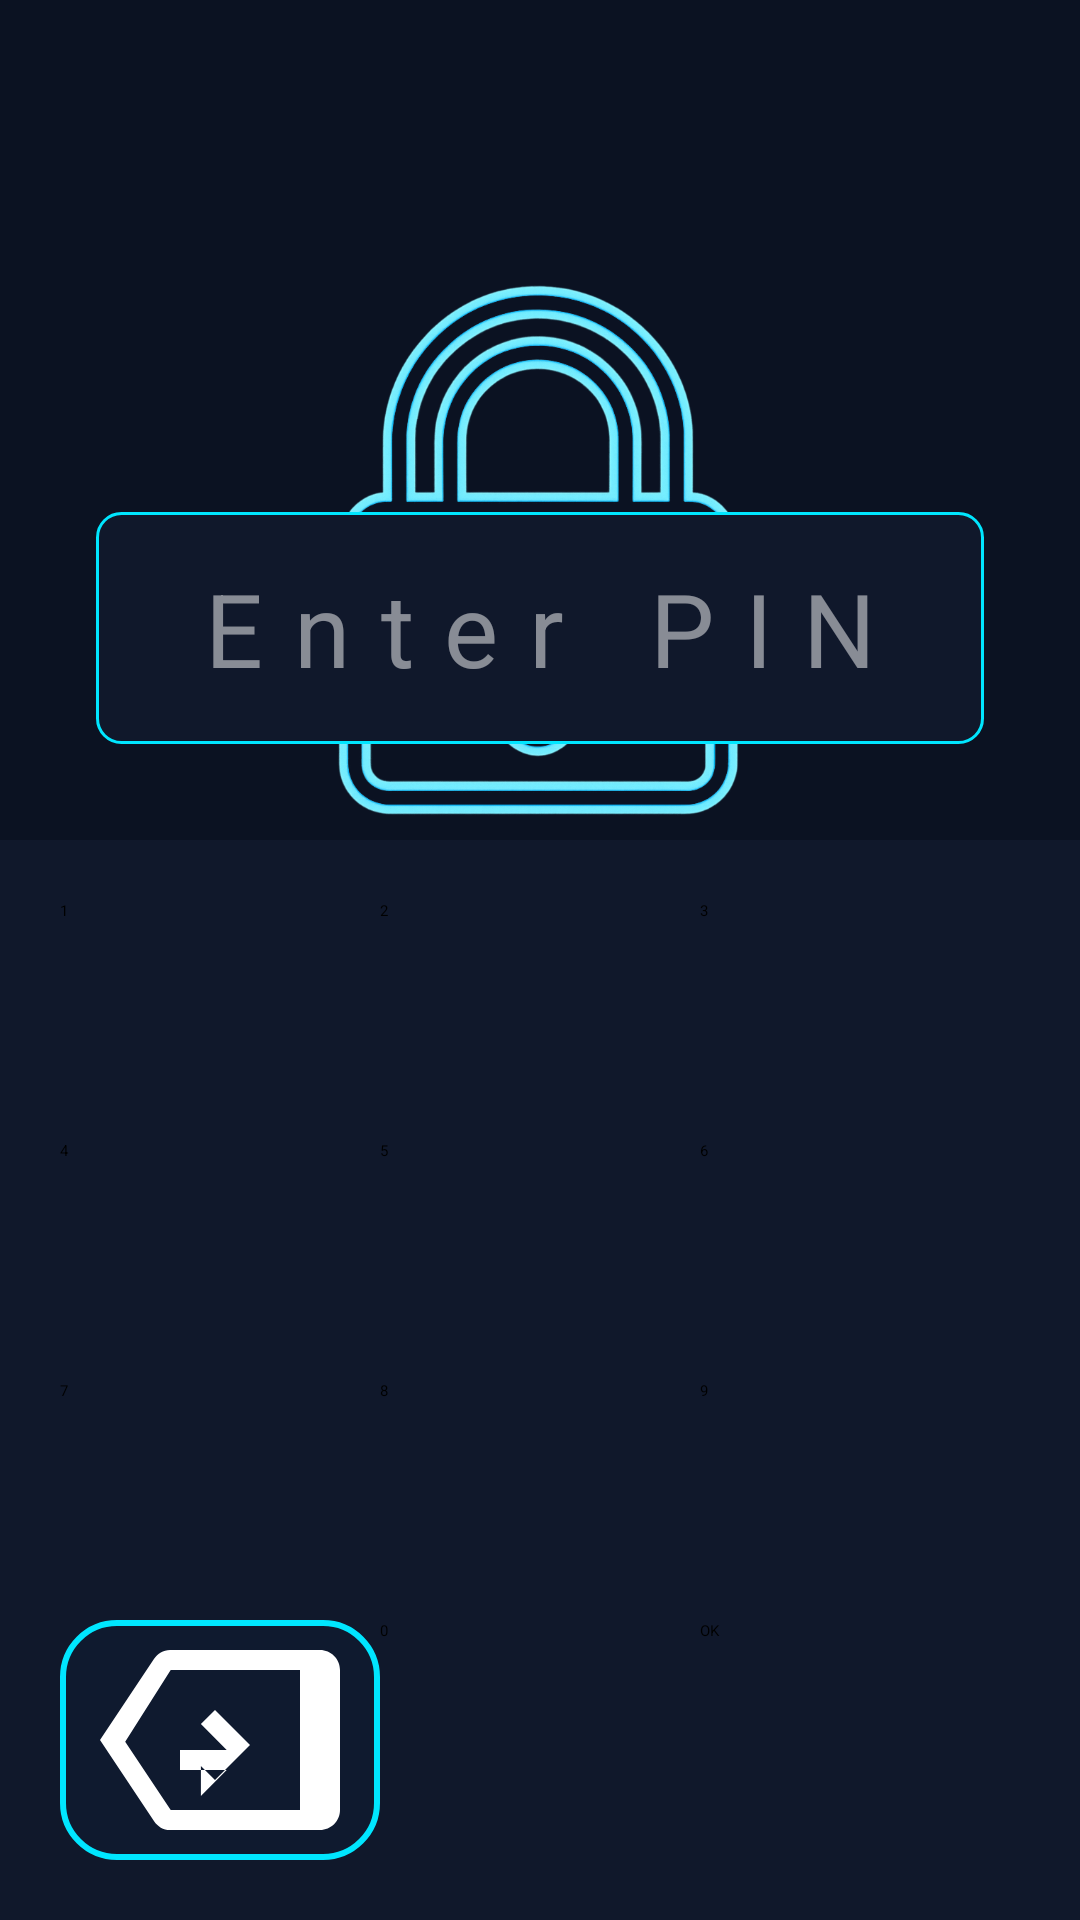

Screen size 1080x1920. Icon name, then its center in pixels as point (x, y):
backspace: point (220, 1740)
